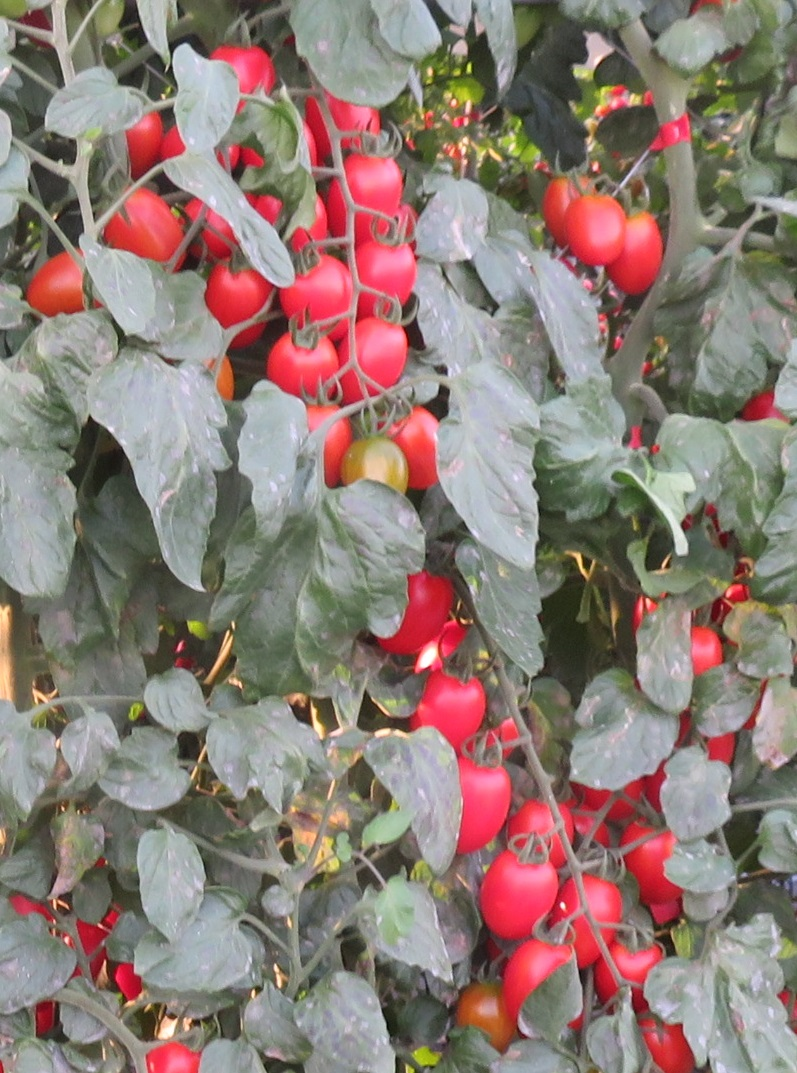green: (340, 436, 412, 501)
orange: (454, 981, 517, 1055)
red: (474, 845, 559, 939), (417, 663, 495, 751), (106, 191, 187, 273), (555, 872, 622, 971), (335, 309, 409, 395), (287, 248, 357, 338), (203, 263, 271, 348), (622, 819, 687, 906), (504, 939, 573, 1017), (273, 329, 343, 404), (23, 251, 102, 317), (305, 84, 381, 152), (349, 226, 413, 306), (457, 762, 511, 854), (383, 408, 441, 493), (595, 941, 665, 1011), (331, 148, 393, 226), (607, 209, 663, 295), (507, 798, 575, 868), (301, 401, 352, 492), (208, 44, 278, 106), (398, 578, 450, 661), (161, 123, 241, 173), (570, 195, 620, 273), (575, 772, 646, 823), (642, 1019, 696, 1073), (125, 109, 163, 178), (542, 175, 577, 248), (687, 625, 724, 678), (143, 1041, 204, 1073), (742, 391, 794, 428), (113, 962, 144, 1001)
